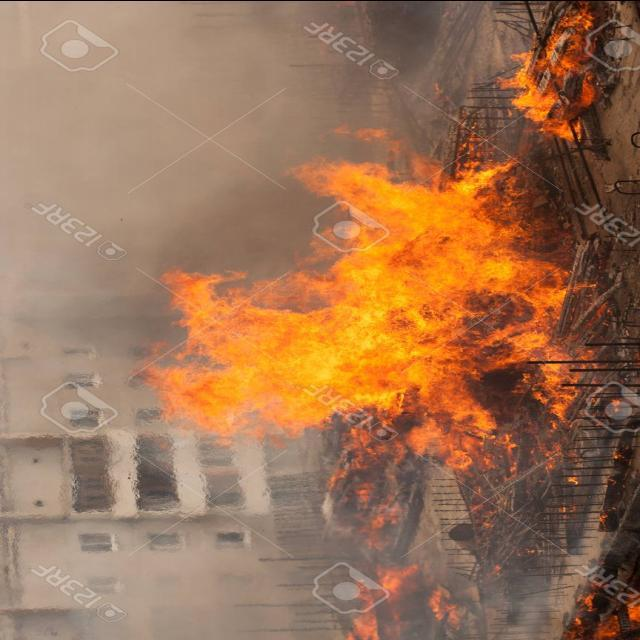Fire: (123, 156, 590, 458), (499, 0, 623, 143)
